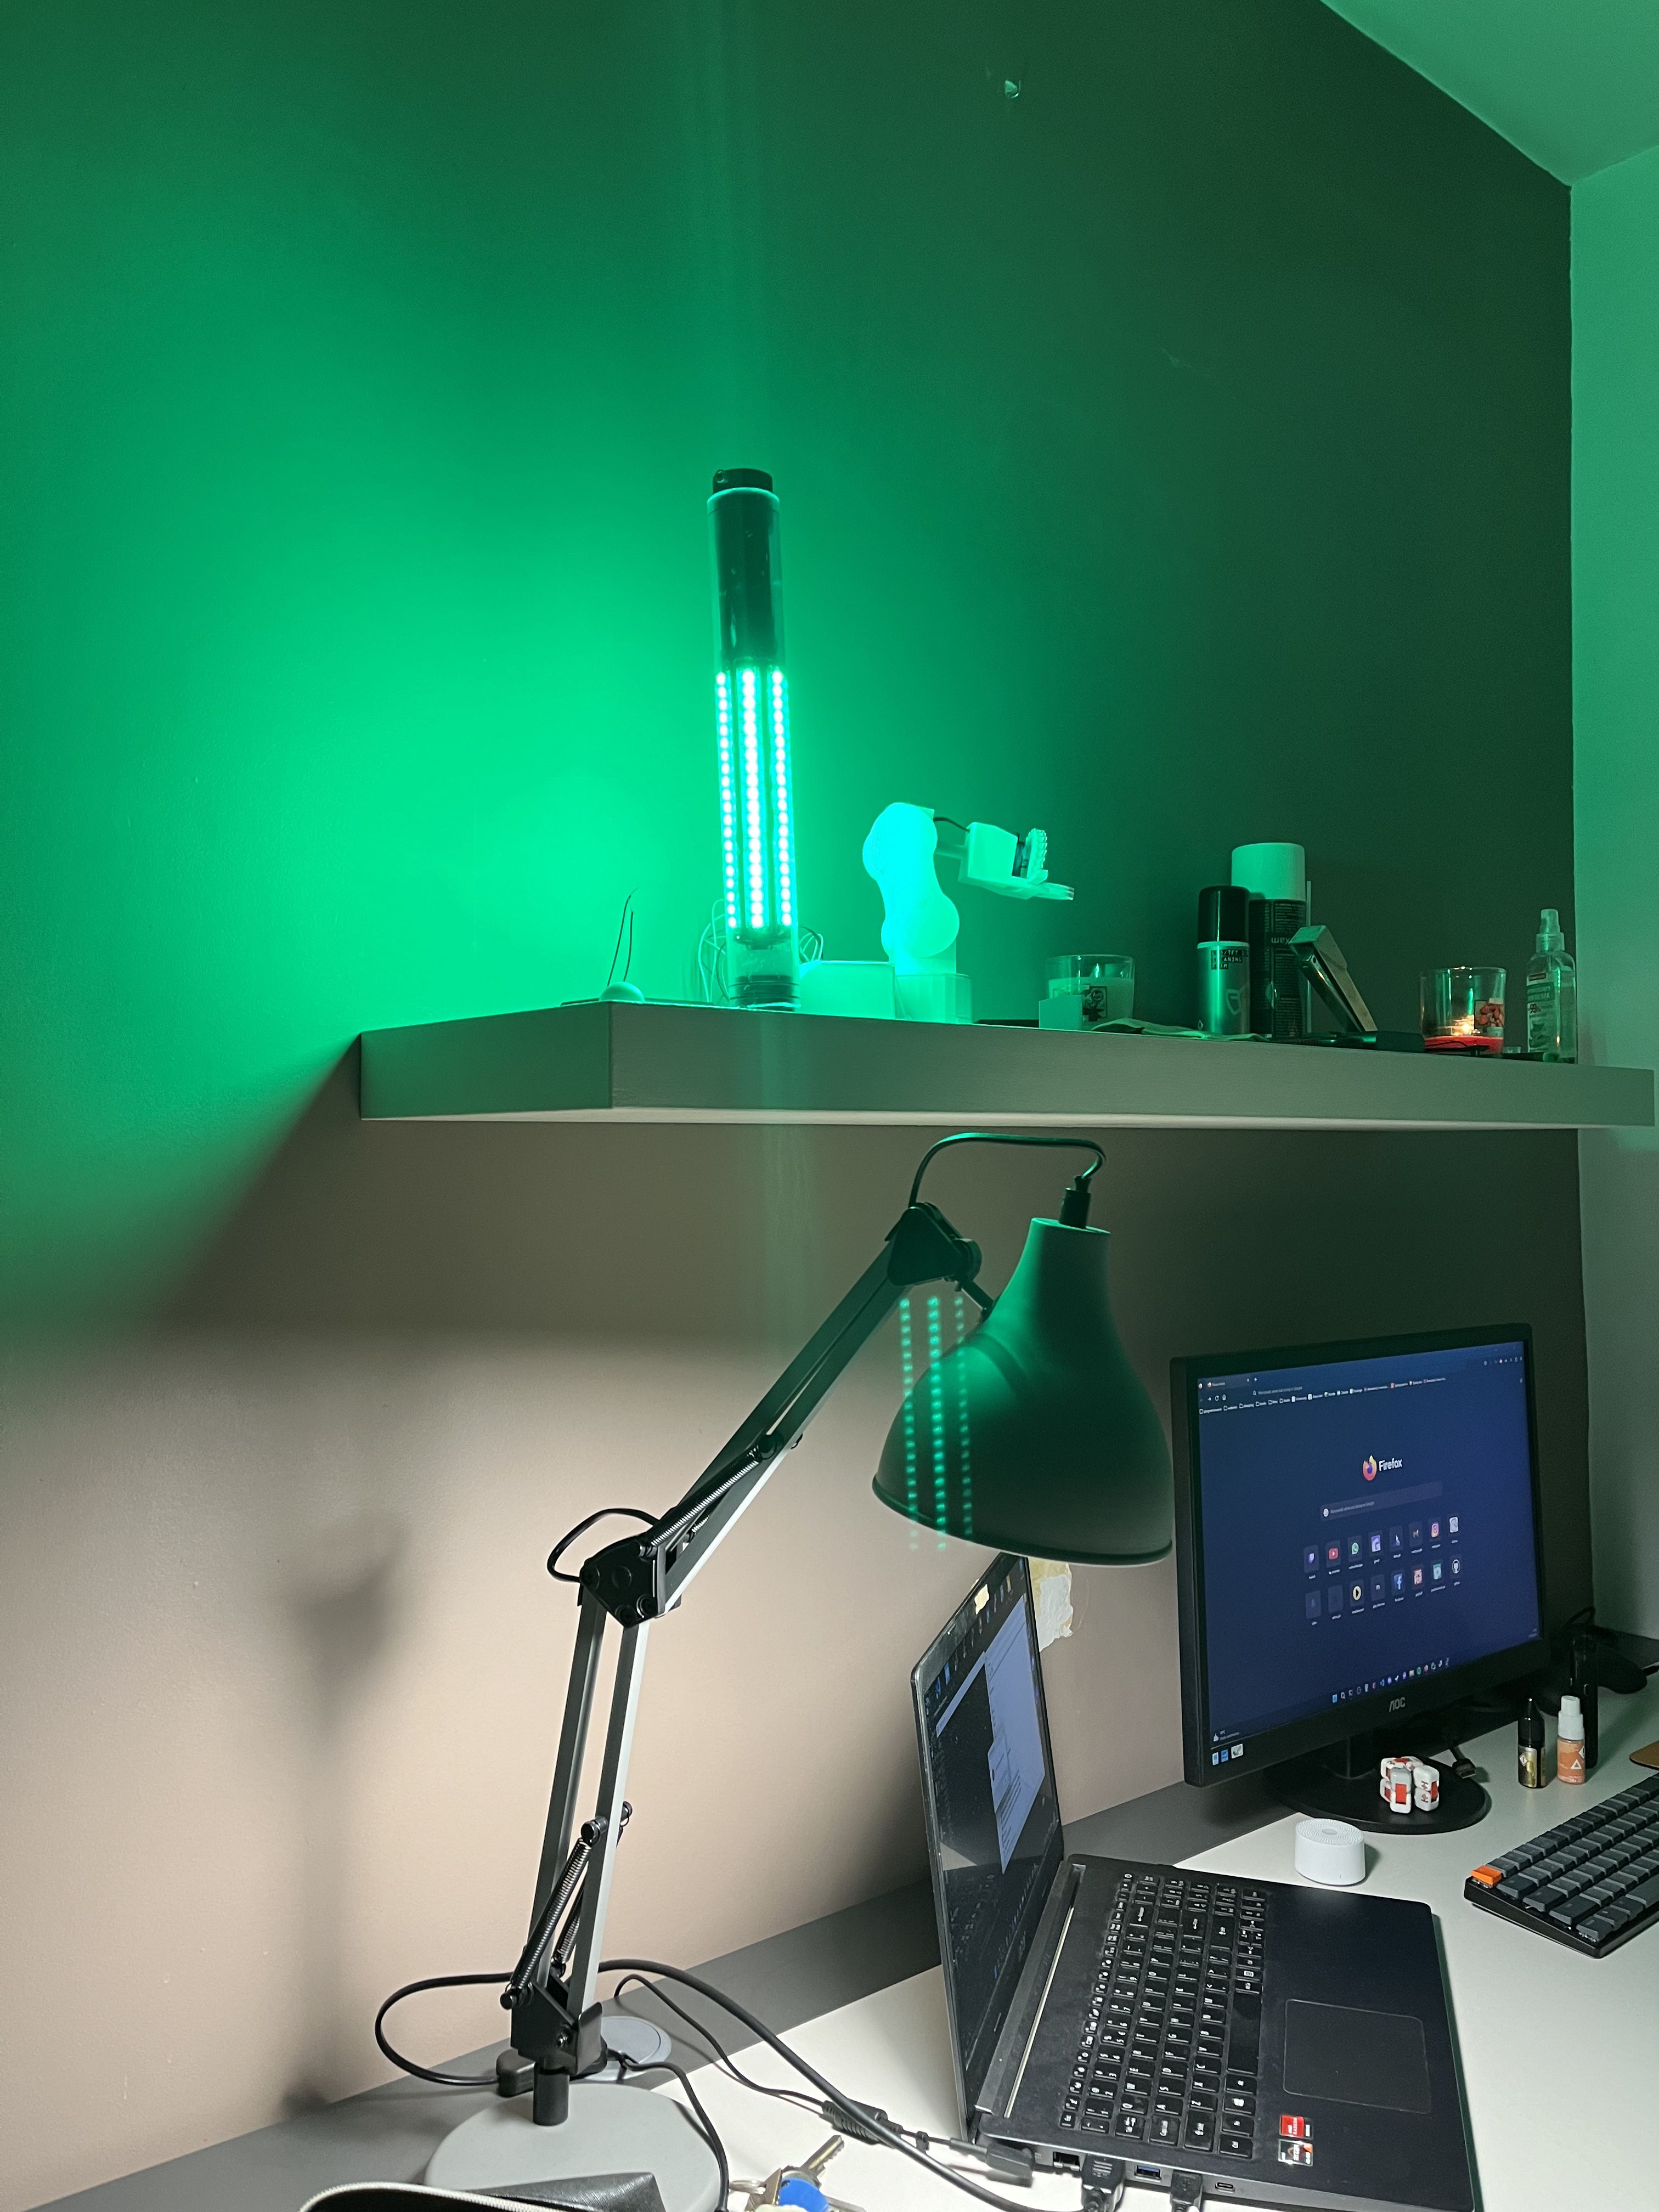green: (714, 493, 802, 1001)
